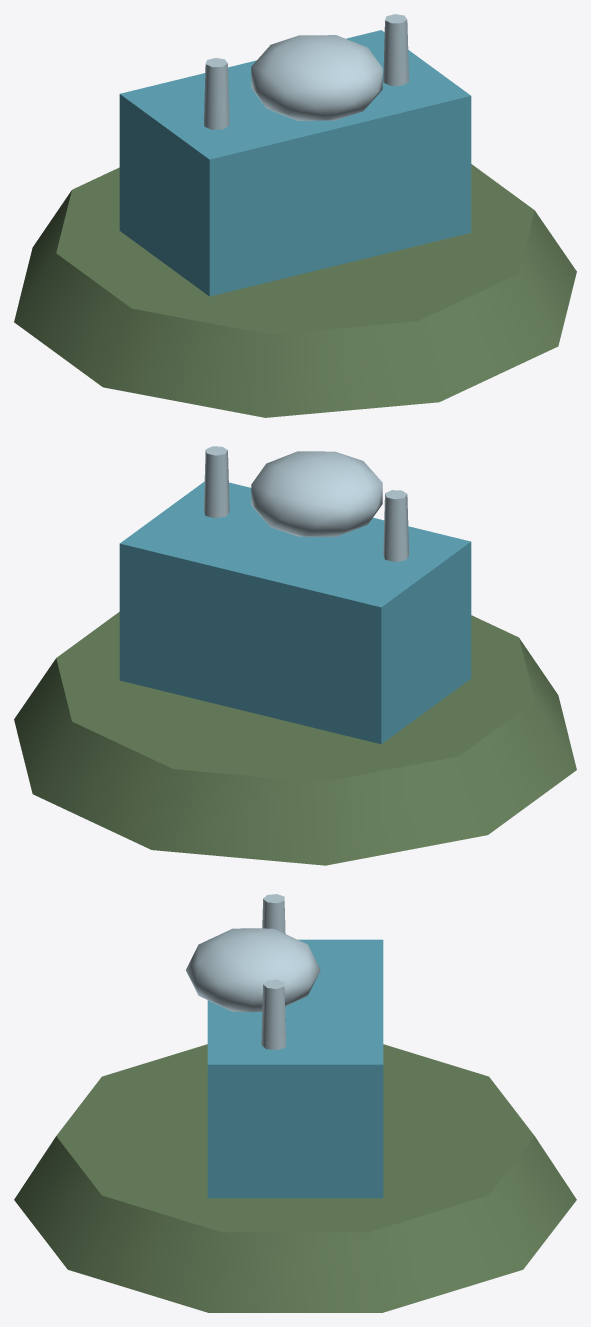
File: sanctuary.glb
The picture shows the model from 3 angles, top to bottom: view 1: azimuth 30°, elevation 25°; view 2: azimuth 150°, elevation 25°; view 3: azimuth 270°, elevation 25°; orthographic projection. The views are drawn at different scales.
Parts seen in each view (by area): view 1: base, altar, emblem, candle_-1, candle_1; view 2: base, altar, emblem, candle_1, candle_-1; view 3: base, altar, emblem, candle_1, candle_-1.
Part boxes in pixels (bbox=[...]): base: bbox=[14, 164, 576, 417]; altar: bbox=[119, 30, 471, 296]; emblem: bbox=[251, 35, 382, 120]; candle_-1: bbox=[204, 58, 229, 129]; candle_1: bbox=[383, 14, 409, 85]; base: bbox=[14, 612, 576, 865]; altar: bbox=[119, 481, 471, 744]; emblem: bbox=[251, 451, 382, 536]; candle_1: bbox=[204, 446, 229, 518]; candle_-1: bbox=[383, 490, 409, 561]; base: bbox=[14, 1044, 576, 1312]; altar: bbox=[207, 939, 383, 1198]; emblem: bbox=[186, 928, 320, 1012]; candle_1: bbox=[261, 979, 285, 1050]; candle_-1: bbox=[262, 894, 285, 933].
Size of what is drawn, in the model's own units: 3.8 by 2.06 by 4.
